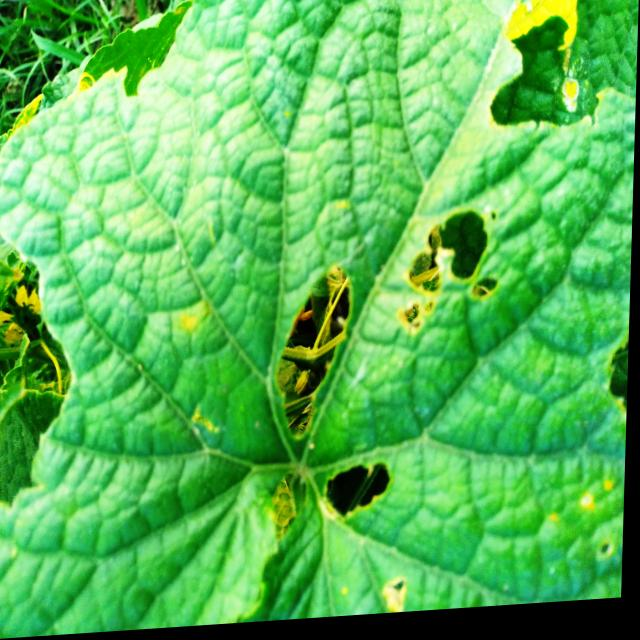Anthracnose: (268, 258, 360, 448), (390, 203, 502, 345), (321, 451, 399, 523)
